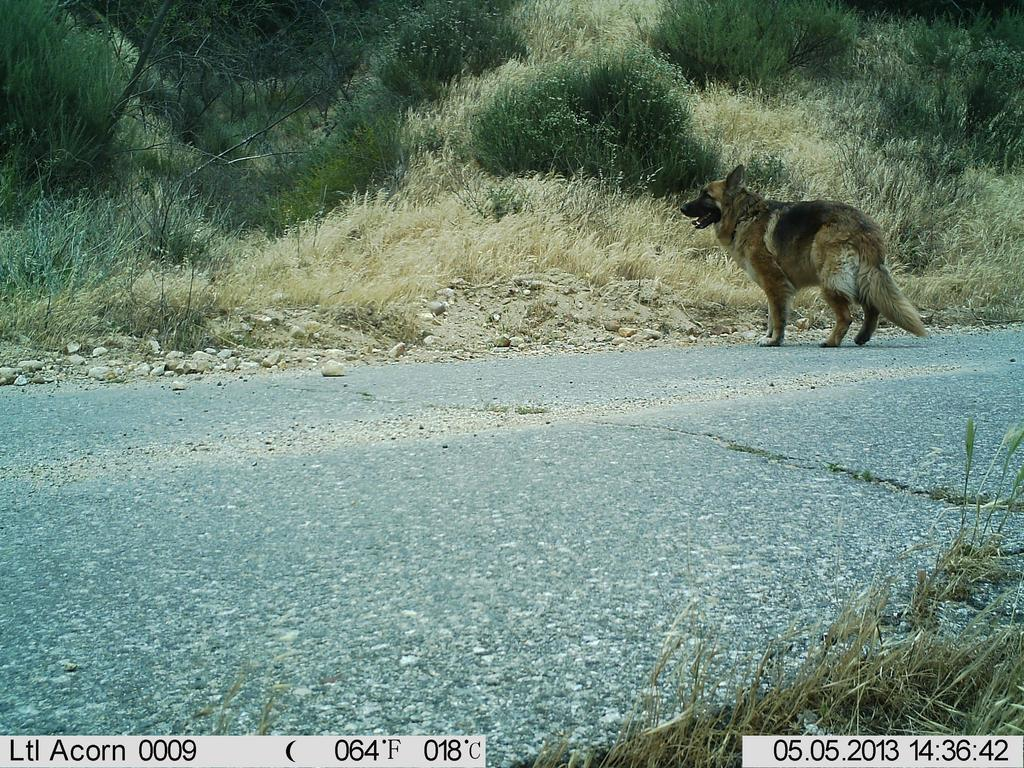dog: (678, 158, 937, 356)
